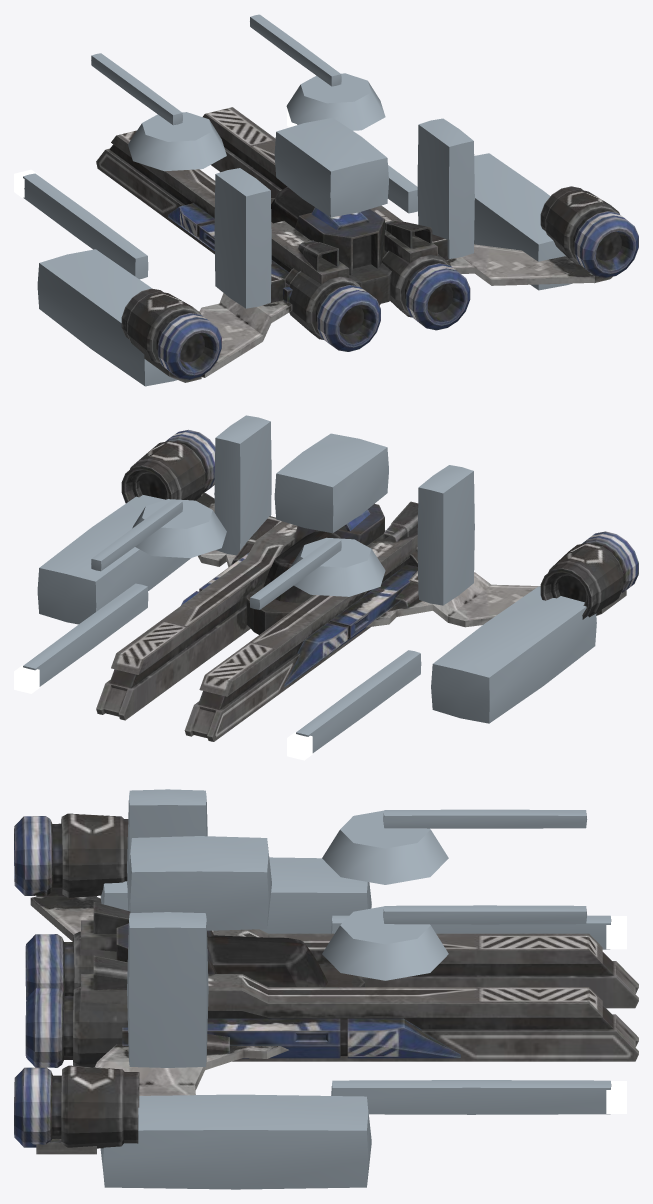
Rendered from player_leviathan.glb.
The picture shows the model from 3 angles, top to bottom: view 1: azimuth 30°, elevation 25°; view 2: azimuth 150°, elevation 25°; view 3: azimuth 270°, elevation 25°; orthographic projection. The views are drawn at different scales.
Visible parts, largest first — view 1: player_leviathan; view 2: player_leviathan; view 3: player_leviathan.
Boxes of the visible parts, x1,y1,x2,y2 form: player_leviathan: (14,14,638,386); player_leviathan: (14,415,638,760); player_leviathan: (14,789,638,1189).
Bounding box in the file's own units: 1.5 × 0.5 × 1.38.
Materials: 3 (1 with a texture image).
